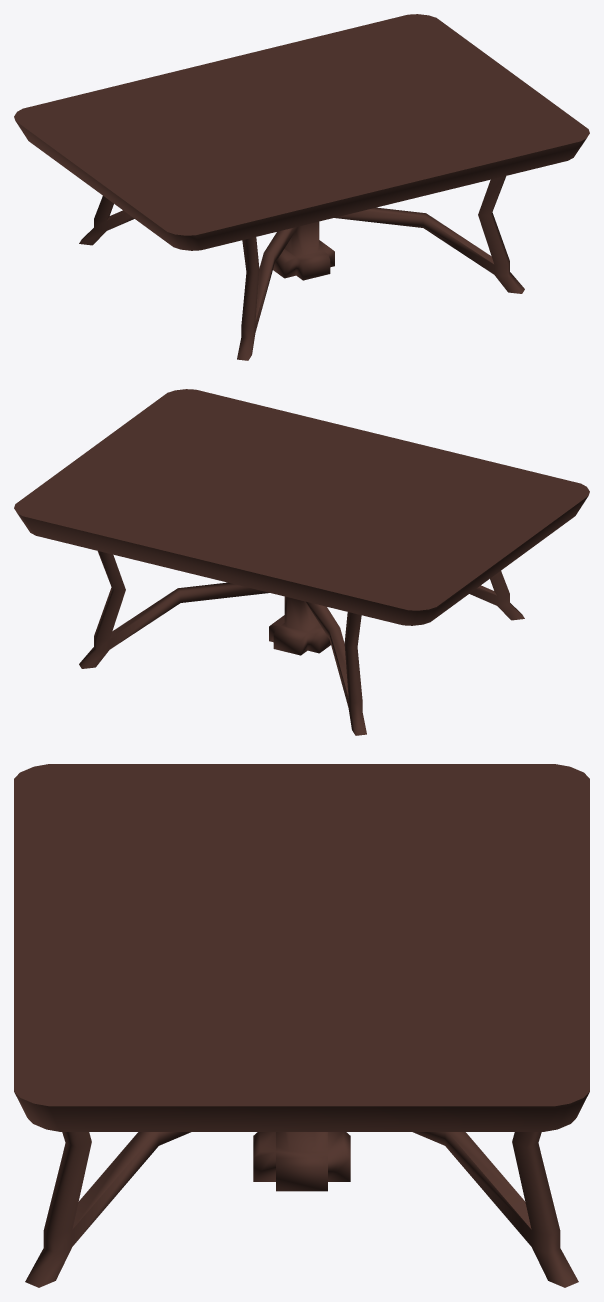
The model's file is Mesa_Main_Menu.fbx.
3 views of the same model, one above another, from view 1: azimuth 30°, elevation 25°; view 2: azimuth 150°, elevation 25°; view 3: azimuth 270°, elevation 25° (orthographic). The views are drawn at different scales.
Visible parts, largest first — view 1: Tablero, Patas; view 2: Tablero, Patas; view 3: Tablero, Patas.
Part boxes in pixels (<box>): Tablero: <box>14,14,589,250</box>; Patas: <box>79,176,524,360</box>; Tablero: <box>14,389,589,625</box>; Patas: <box>79,551,524,735</box>; Tablero: <box>14,764,589,1131</box>; Patas: <box>25,1132,578,1287</box>.
Bounding box in the file's own units: 2179 × 700 × 1550.
